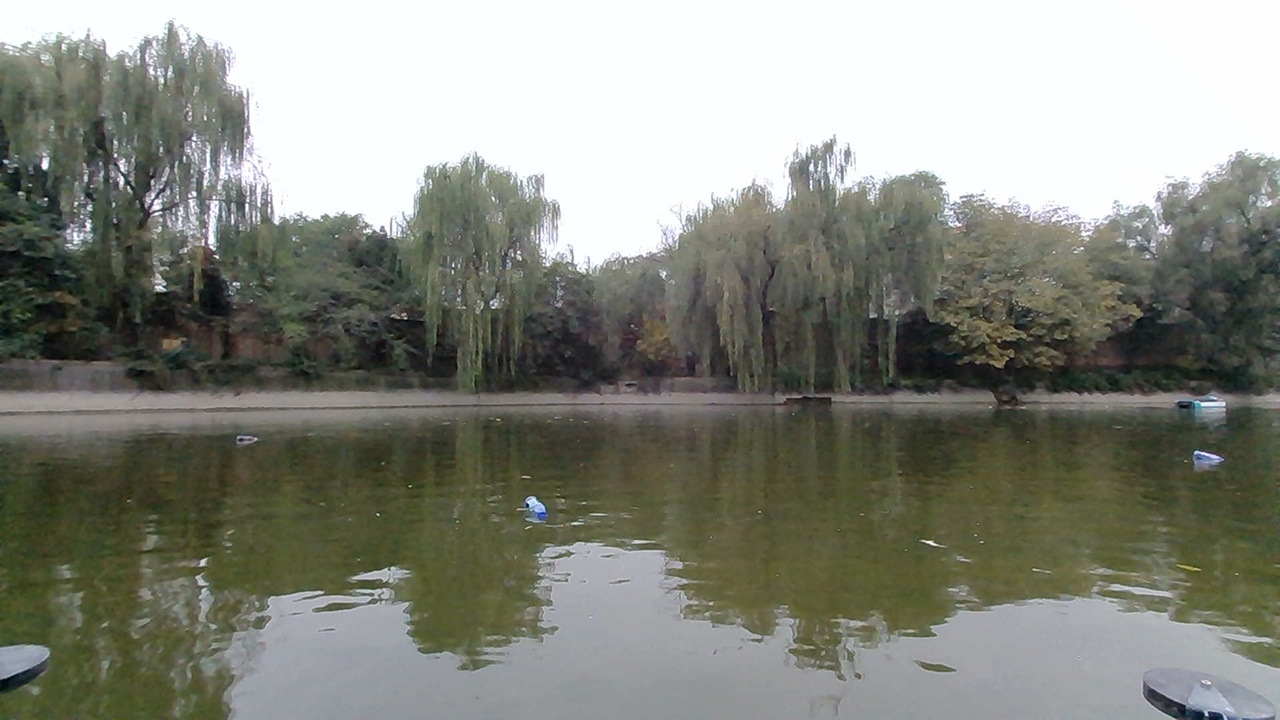bottle: (514, 492, 564, 529), (1186, 442, 1231, 476), (231, 417, 263, 451)
